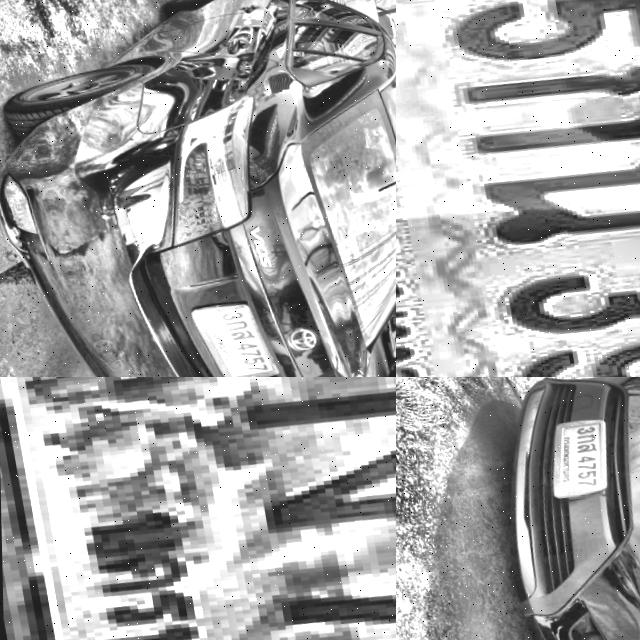license-plate: (0, 377, 396, 640), (396, 0, 640, 377), (186, 290, 280, 377), (536, 412, 617, 503), (388, 309, 396, 321)
